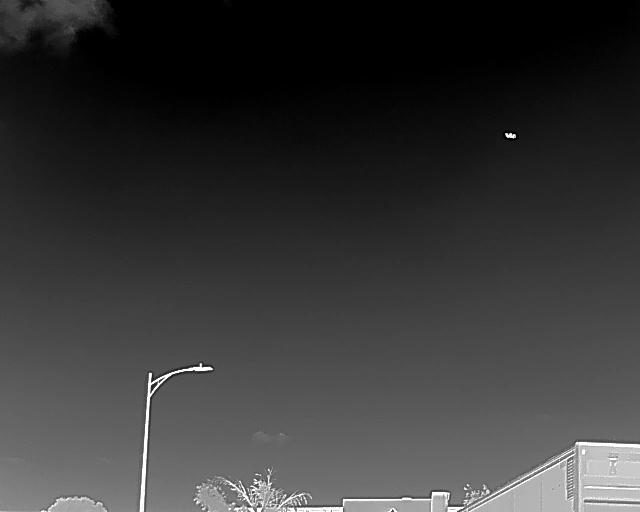fpv-drone: (503, 131, 517, 139)
